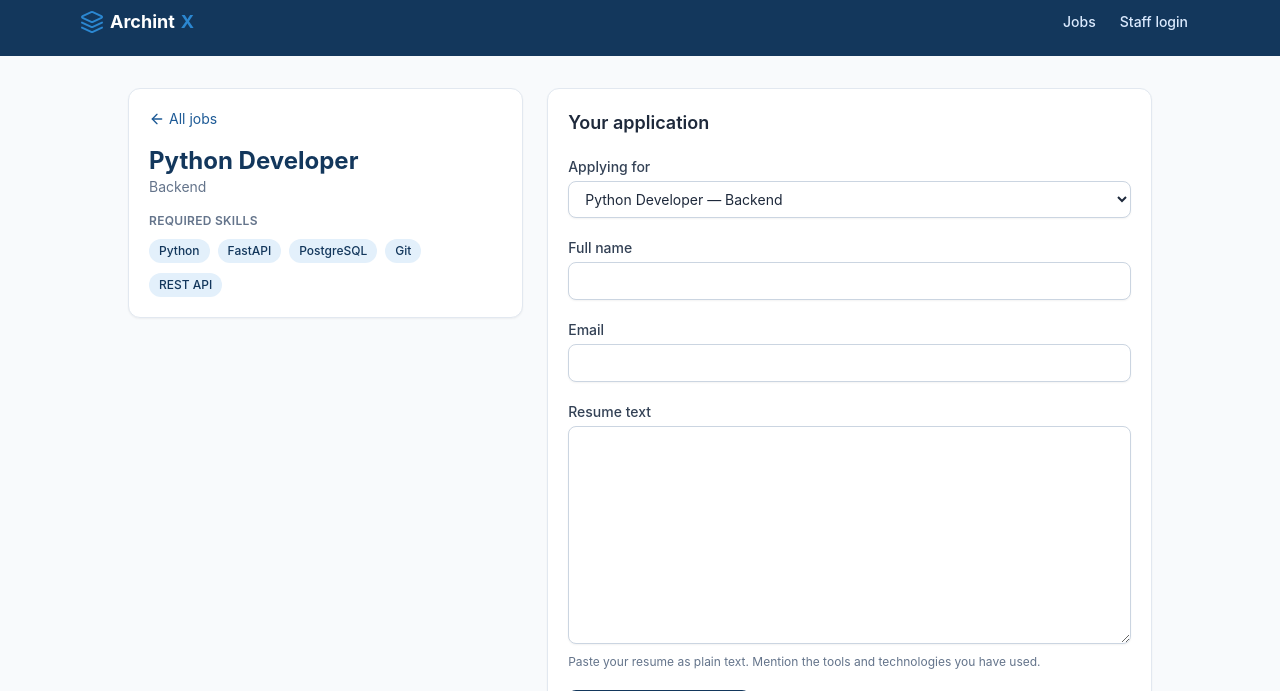
Test: apply flow › shows API errors
Type "Asha Rao" into the field labelled "Full name". click: [850, 281]
box: [568, 262, 1131, 300]
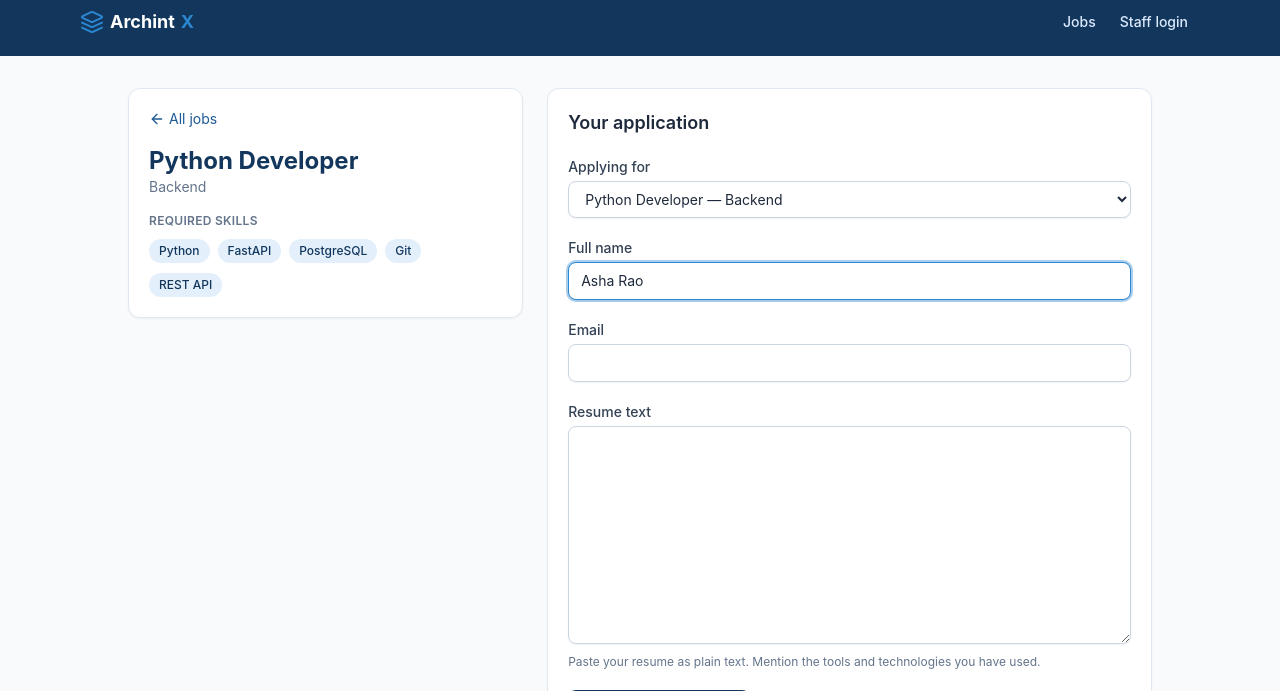
Type "asha@example.com" into the field labelled "Email". click: [850, 363]
box: [568, 344, 1131, 382]
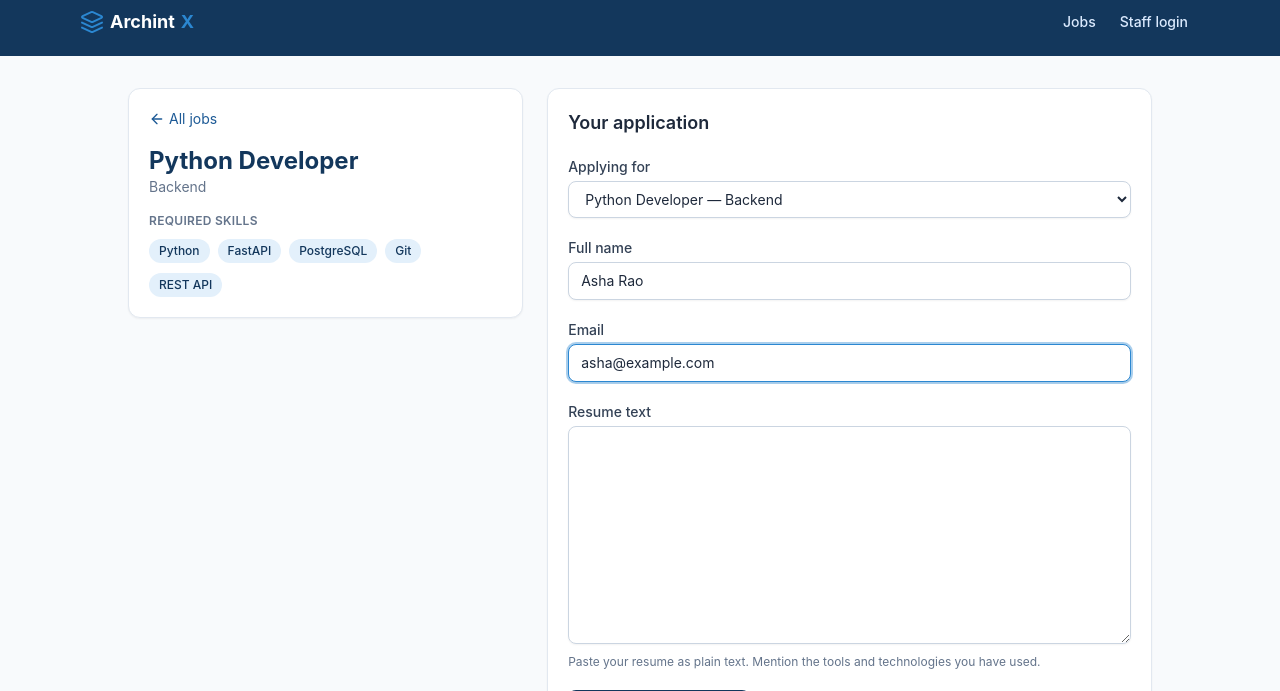
Type "Python, FastAPI, Git and REST APIs experience" into the text box labelled "Resume text". click: [850, 535]
box: [568, 426, 1131, 644]
(page scrolled)
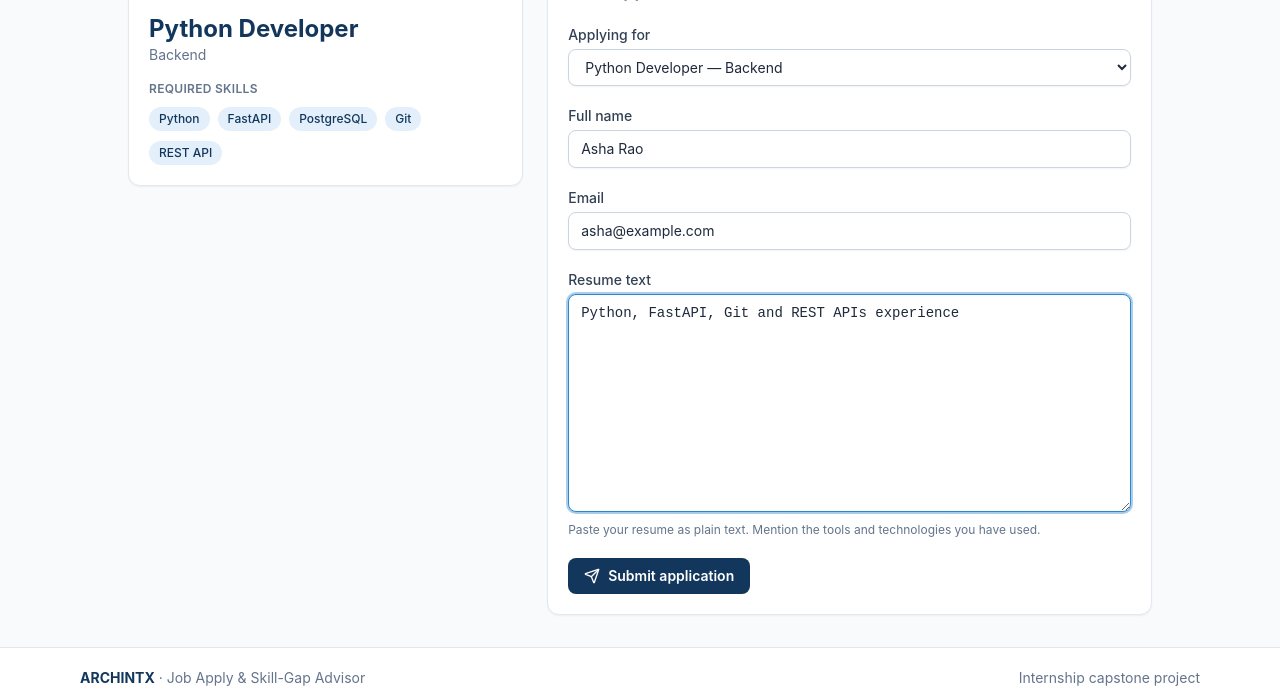
Click the button "Submit application". click: [659, 576]
box: [568, 558, 750, 594]
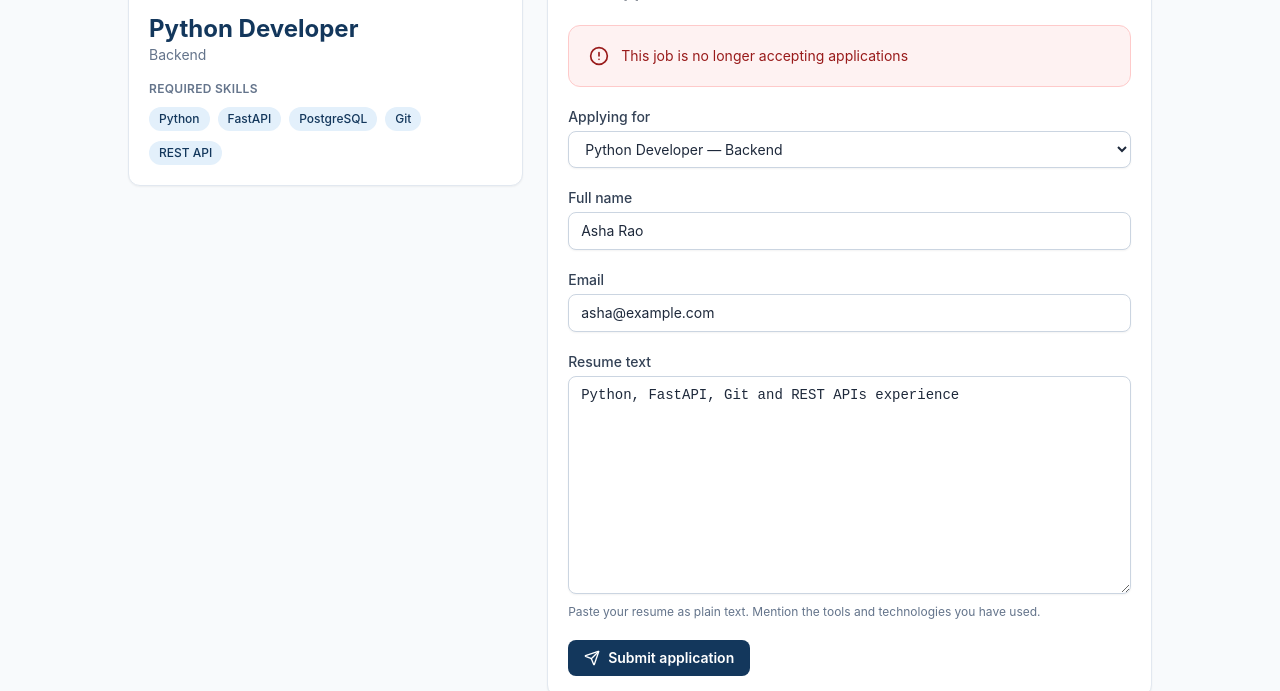
Expected: the button "Submit application" is enabled, [568, 640, 750, 676]
Now the message shows "no longer accepting", box [621, 47, 908, 64]
